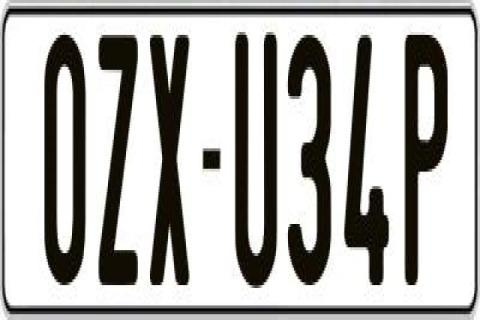0: (340, 29, 390, 282), (287, 35, 333, 299), (40, 35, 82, 297)
P: (402, 35, 446, 285)
U: (236, 23, 278, 291)
X: (146, 35, 186, 285)
Z: (96, 32, 140, 282)
